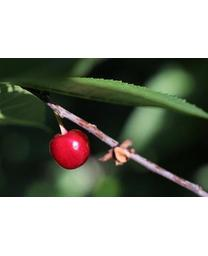cherry: (48, 128, 89, 169)
